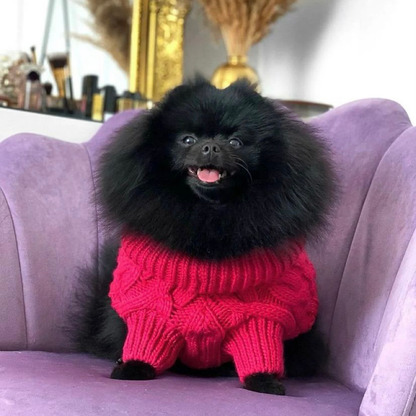Pomeranian: (71, 65, 360, 403)
